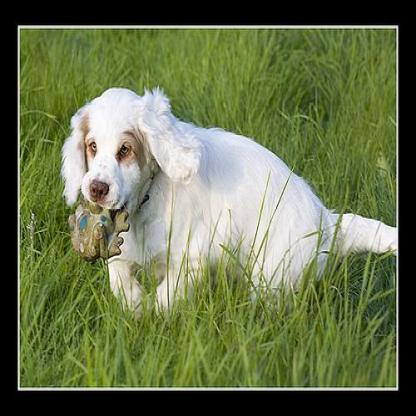clumber: (58, 84, 395, 307)
